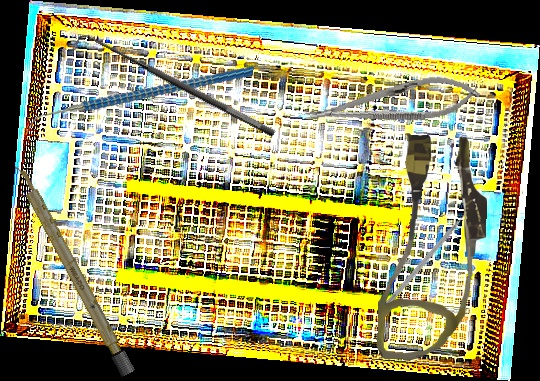Cannula: (377, 134, 488, 361)
Chopper: (26, 40, 254, 160), (379, 204, 480, 318)
Hook Surgical: (69, 23, 278, 153)
Needle Holder: (301, 69, 483, 137)
Scalpel Handle: (10, 161, 136, 378)
